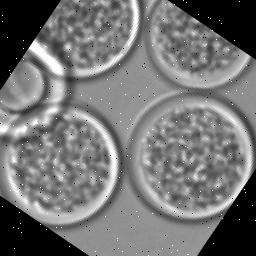picoshell: (124, 91, 256, 220), (0, 103, 121, 227), (143, 0, 249, 87), (25, 0, 139, 76)
